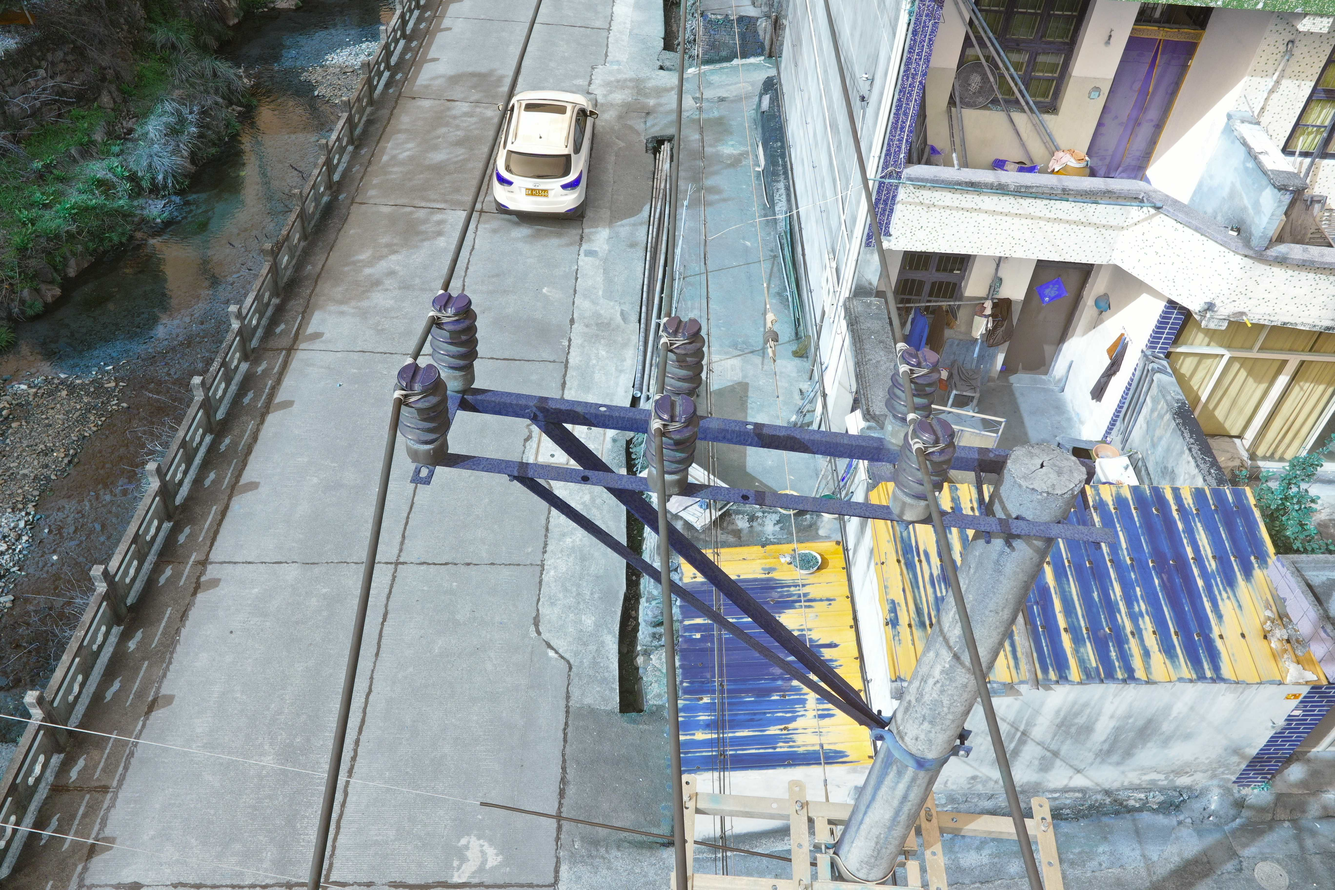severe_soiling_no_discharge_whole: (884, 412, 958, 523), (883, 342, 948, 449), (390, 359, 452, 466), (641, 392, 703, 495), (424, 288, 481, 392), (653, 311, 707, 398)
